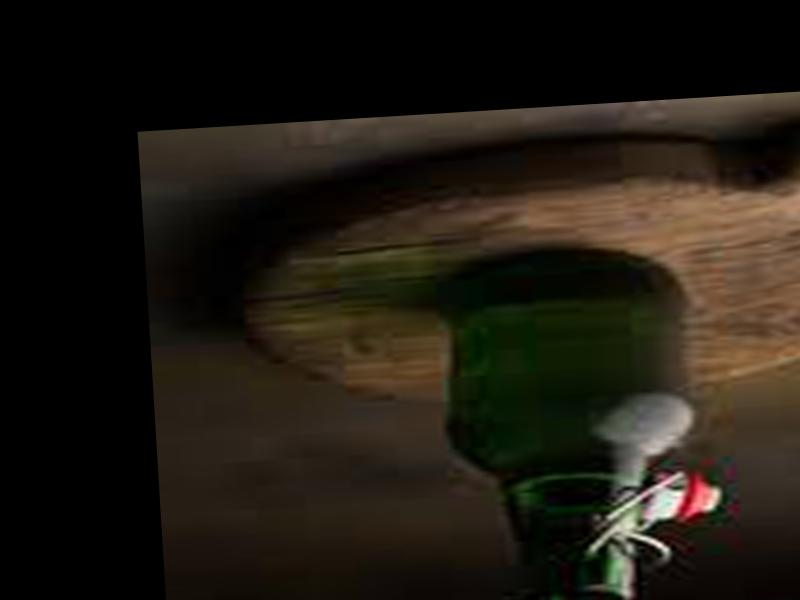Beer: (447, 251, 703, 600)
